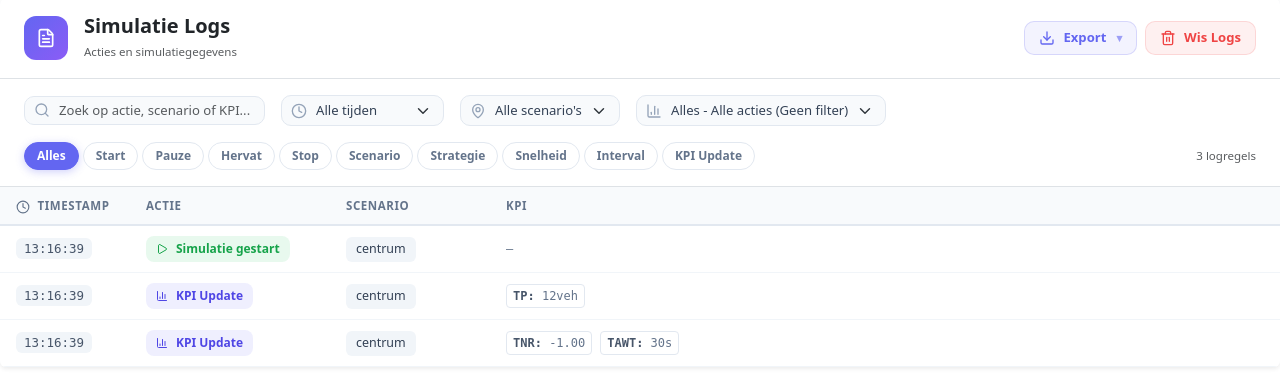
it: LogsViewer.vue › filters logs by any available KPI
The image size is (1280, 386).
Step 1. Select "TP - Doorvoer" in the dropdown named "Filter op KPI" → (761, 110), box [636,95,886,126]
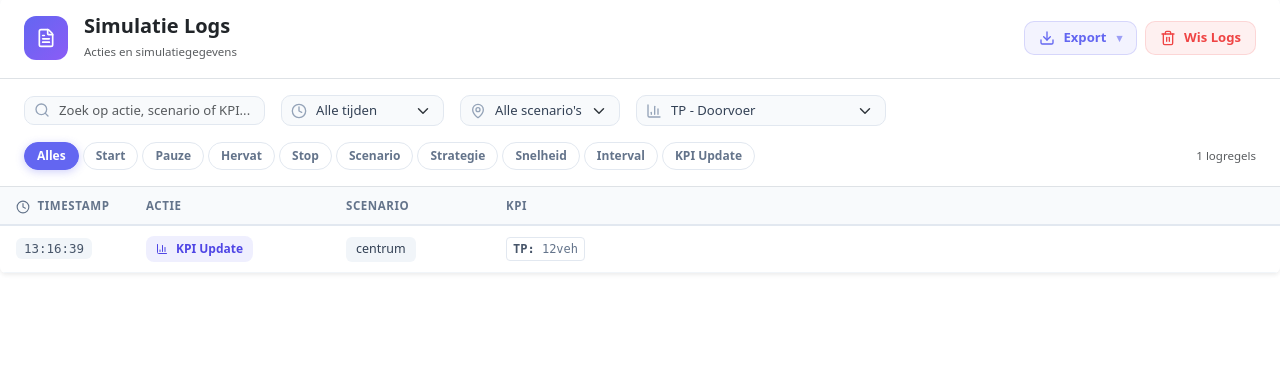
Check: the element with class "kpi-summary-container" shows "TP", box [513,242,535,256]
Check: the number of rows with class "log-row" is 1, box [0,225,1279,273]
